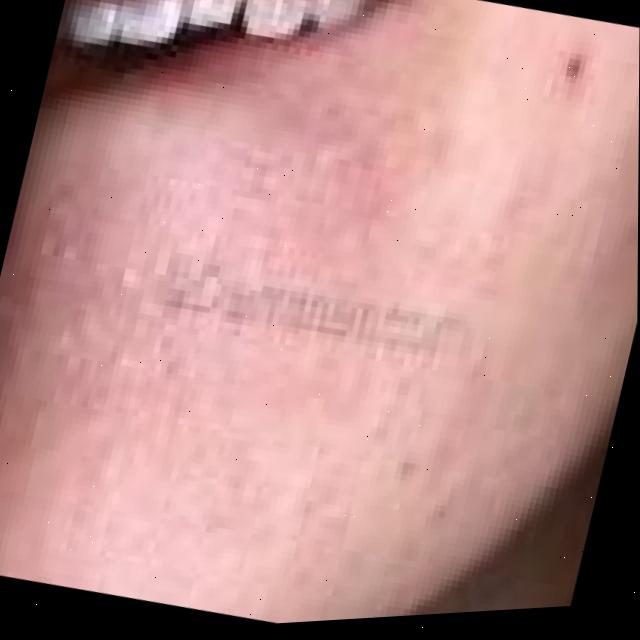Melasma: (61, 57, 405, 434)
